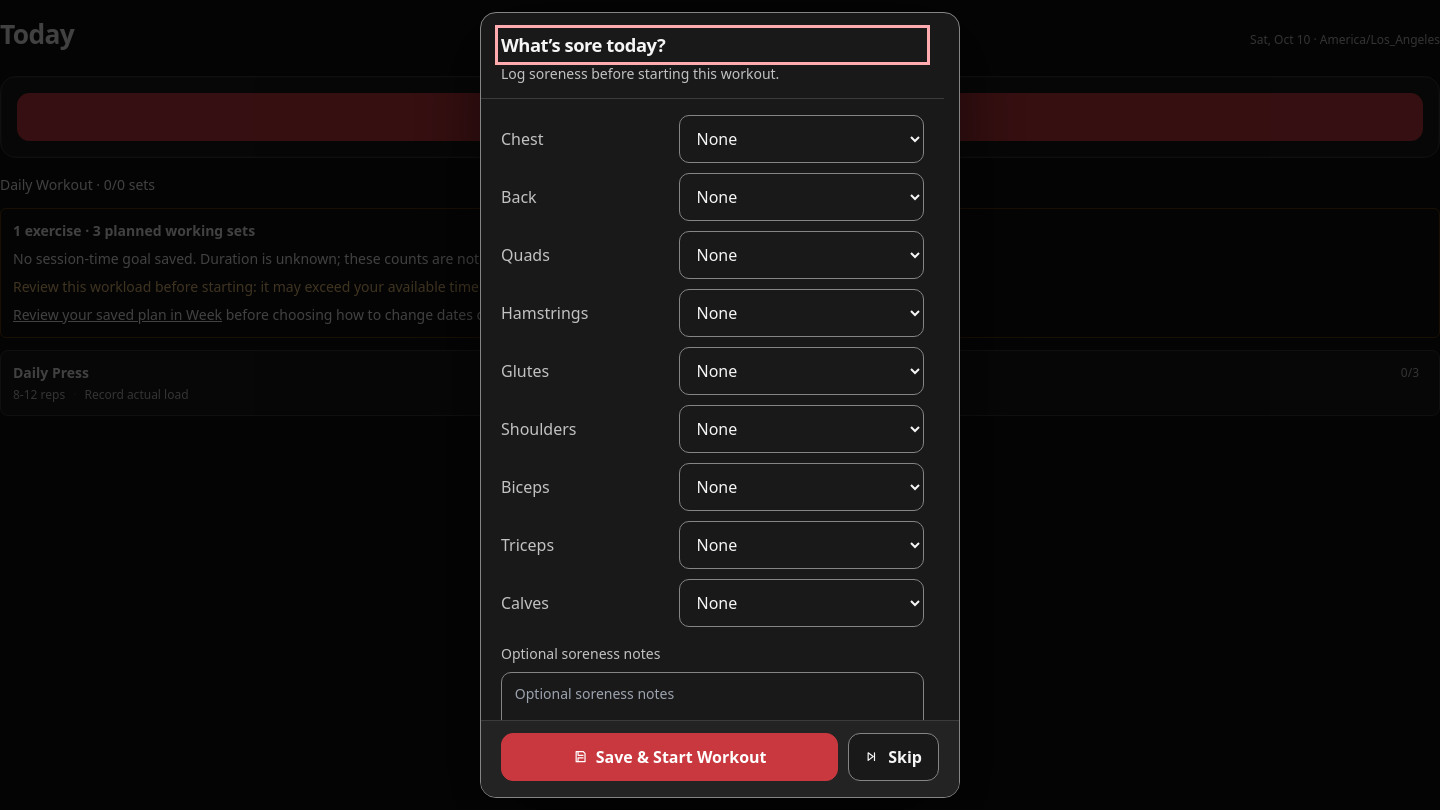
Test: a skipped date does not suppress the next local day's prompt in the same page
The width and height of the screenshot is (1440, 810).
Check: the heading "What’s sore today?" is shown, box [501,32,665,57]
Click the button "Skip": (894, 757) [848,733,939,781]
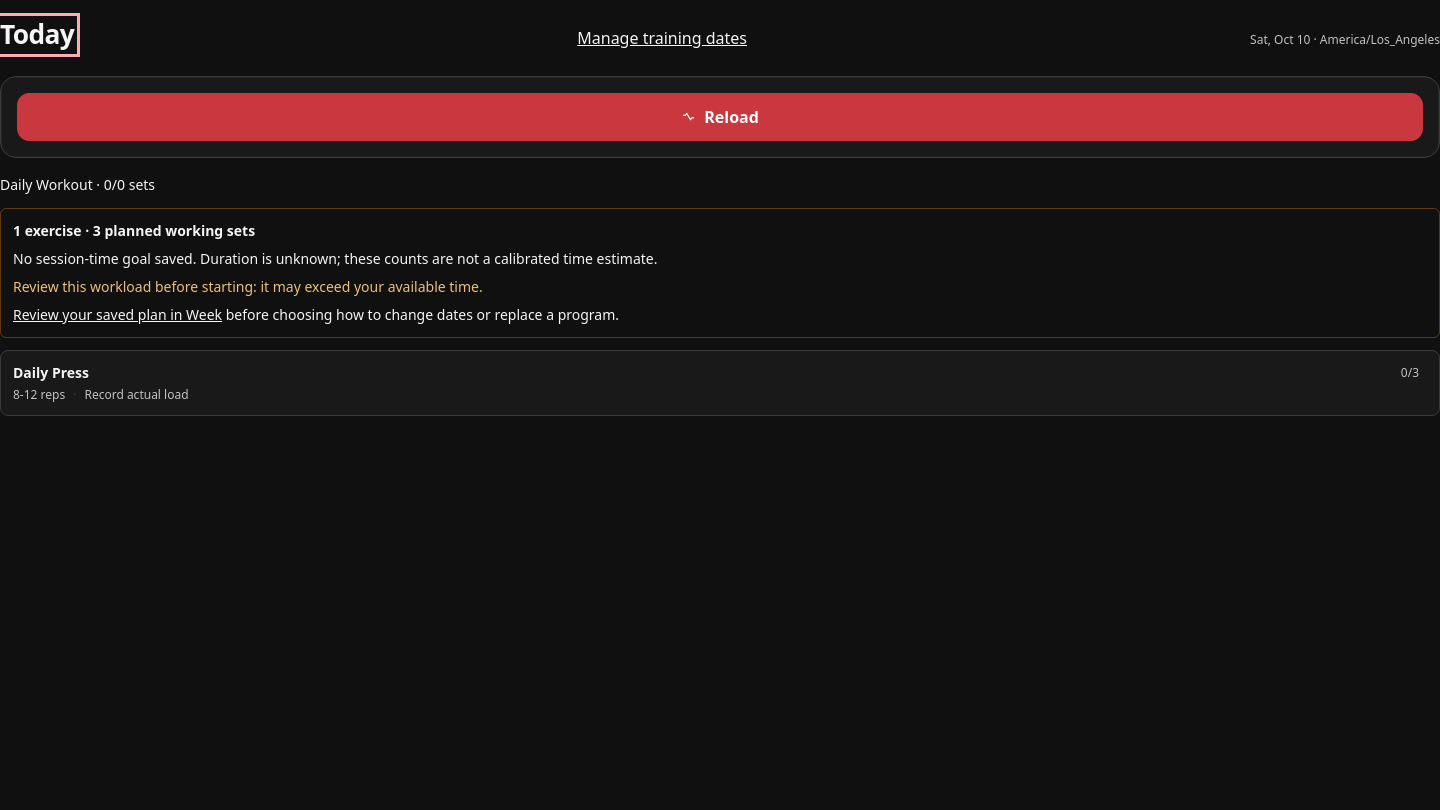
Check: the heading "sore today?" is gone
Click the button "Reload": (720, 117) [17,93,1423,141]
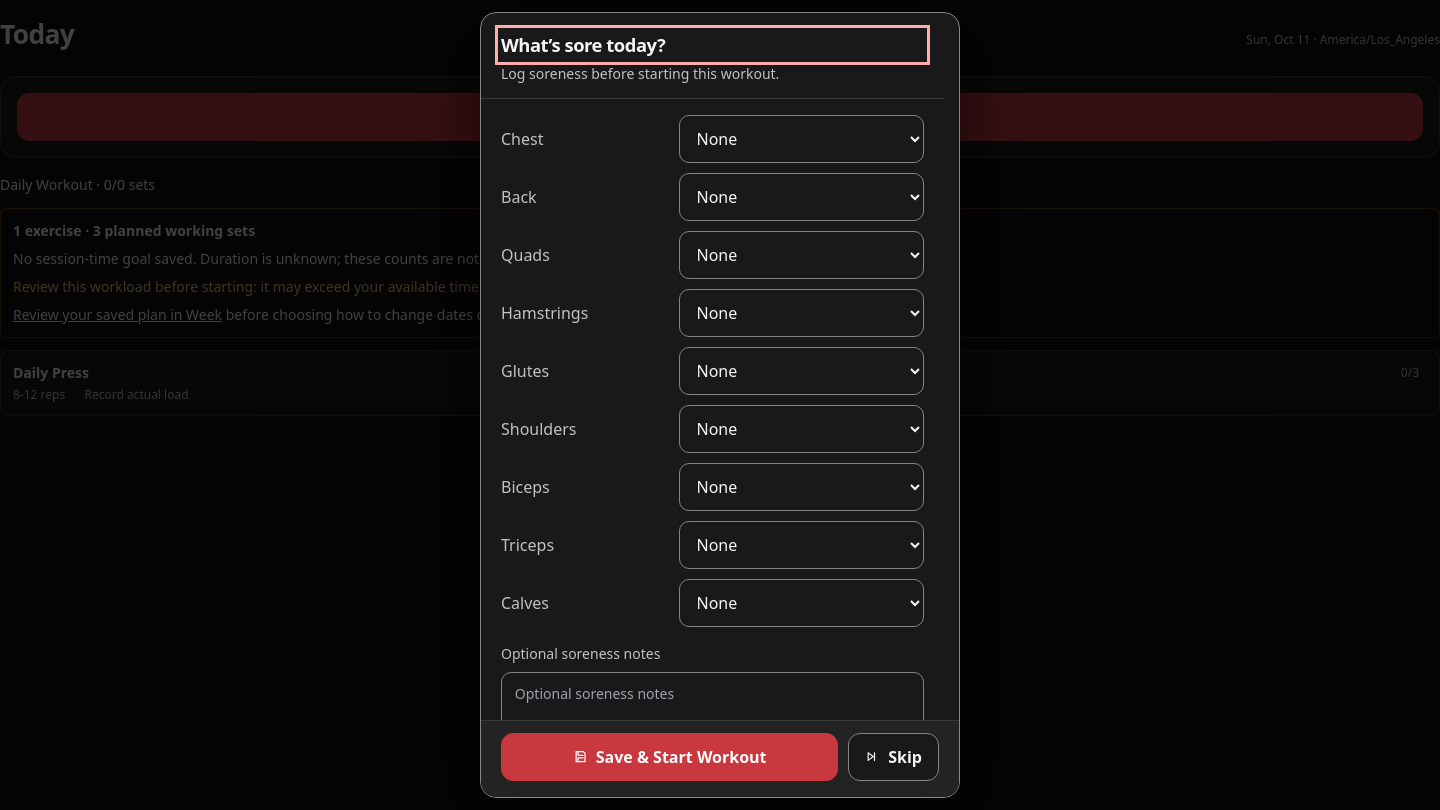
Check: the heading "What’s sore today?" is shown, box [501,32,665,57]
